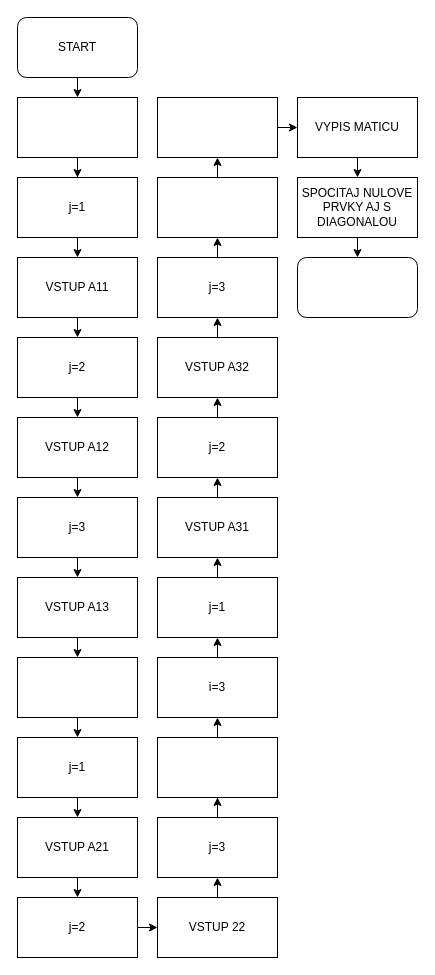
This 435x975 diagram has some shape labels left out. Here are the shapes that lost their labels. From the top down, the box of each, then its label:
(16, 96, 138, 158): i=1
(156, 96, 278, 158): VYNULUJ, A11,A22,A33
(156, 176, 278, 238): VSTUP A33
(296, 256, 418, 318): KONIEC
(16, 656, 138, 718): i=2
(156, 736, 278, 798): VSTUP A23
